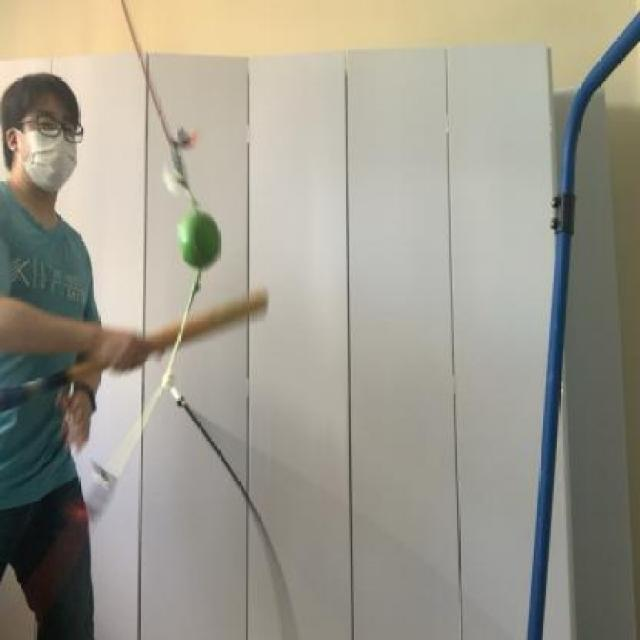baseball: (172, 204, 222, 271)
